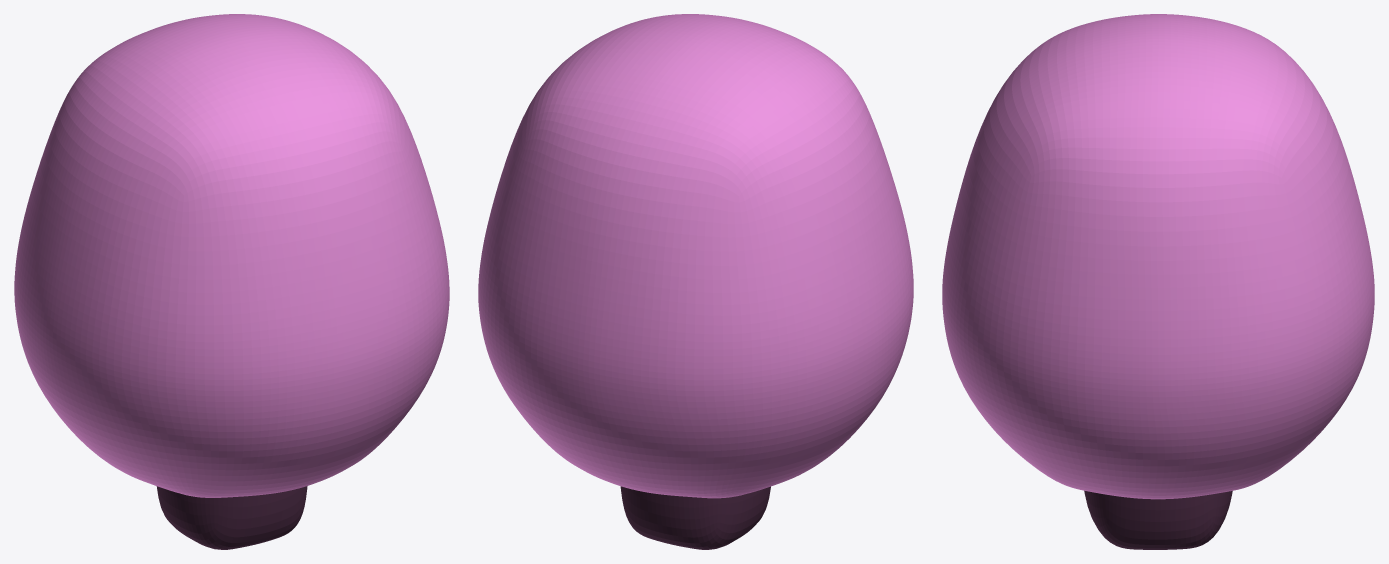
File: pinktree.fbx
3 renders of one model, left to right at view 1: azimuth 30°, elevation 25°; view 2: azimuth 150°, elevation 25°; view 3: azimuth 270°, elevation 25°, orthographic.
Visible parts, largest first — view 1: Roundcube.008, Roundcube.009; view 2: Roundcube.008, Roundcube.009; view 3: Roundcube.008, Roundcube.009.
Part boxes in pixels (x1,y1,x2,y2): Roundcube.008: (14,14,449,497); Roundcube.009: (156,486,307,549); Roundcube.008: (478,14,913,498); Roundcube.009: (620,486,770,549); Roundcube.008: (942,14,1374,499); Roundcube.009: (1084,490,1232,549).
Size of the model in its own units: 199 by 252 by 199.
